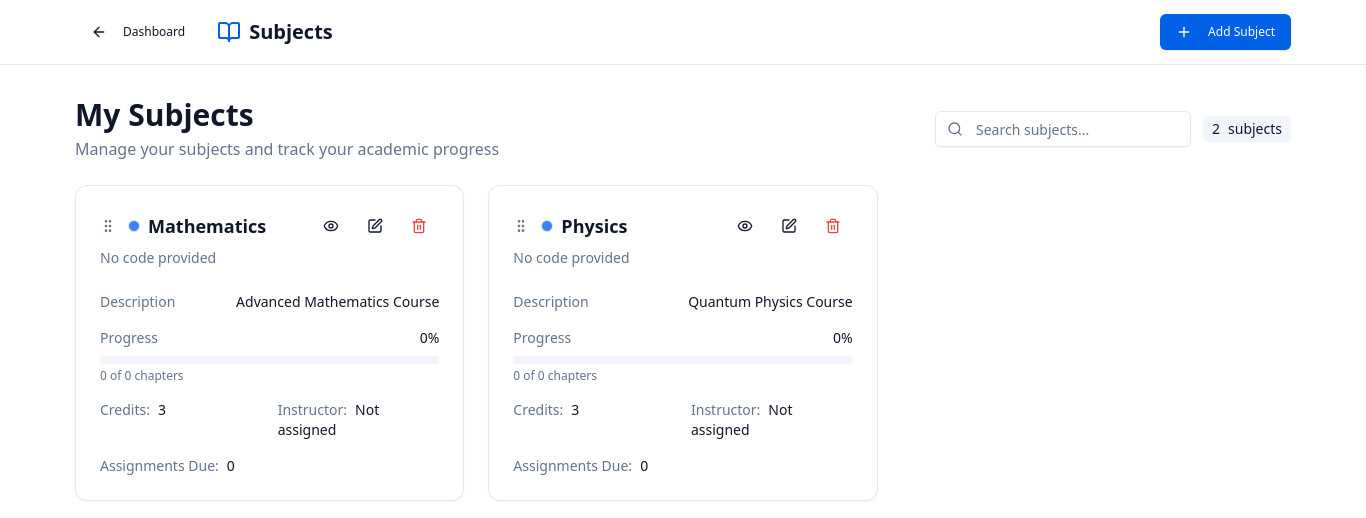
Scenario: Subjects Page Integration › Subject Search › filters subjects based on search query
The width and height of the screenshot is (1366, 518).
Expected: the text "Mathematics" is shown, left=148, top=212, right=266, bottom=240
Expected: the text "Physics" is shown, left=561, top=212, right=627, bottom=240
Search for "Math"
Type "Math" into the field with placeholder "Search subjects..." at [1063, 129], box left=935, top=111, right=1191, bottom=147
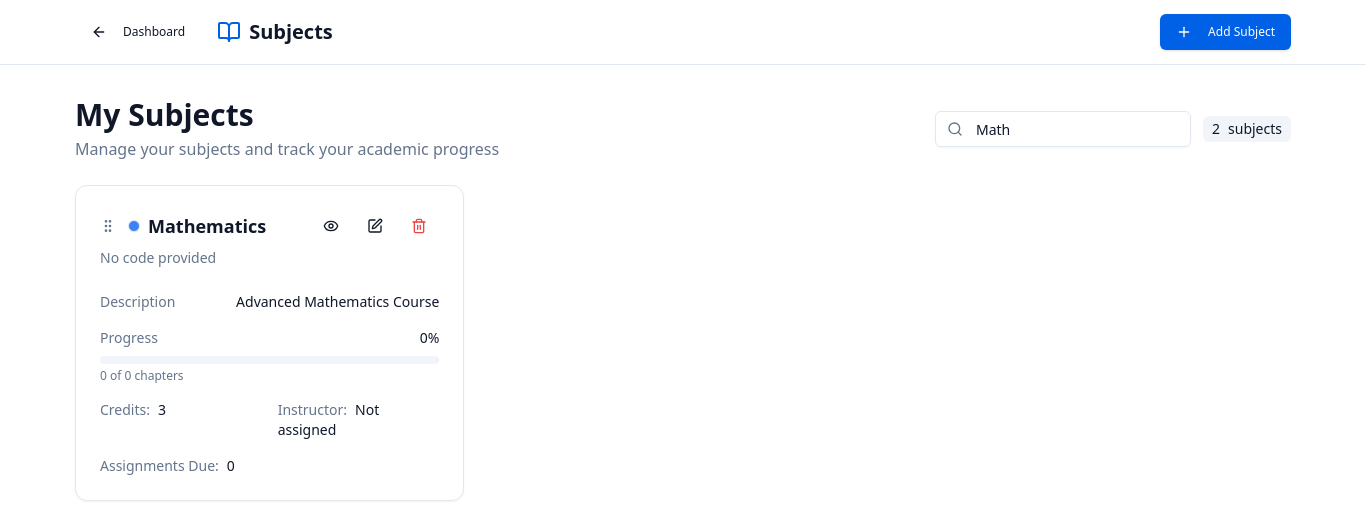
Expected: the text "Mathematics" is shown, left=148, top=212, right=266, bottom=240
Expected: the text "Physics" is gone
